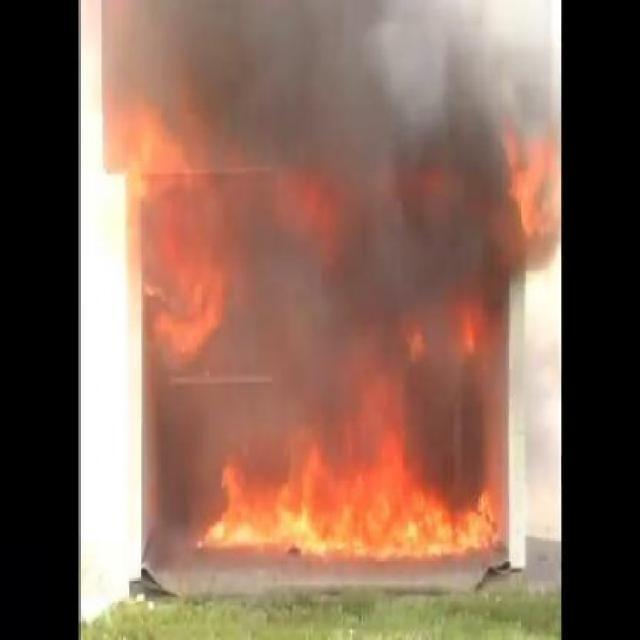fire: (223, 435, 506, 568)
smoke: (178, 18, 540, 154), (226, 439, 508, 570), (336, 172, 514, 310), (232, 254, 342, 400), (400, 344, 486, 502), (152, 358, 220, 484)
